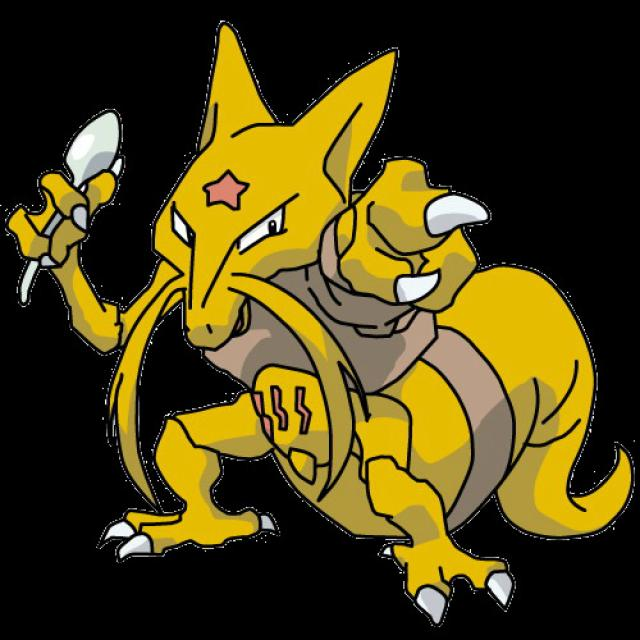Kadabra: (65, 21, 528, 605)
